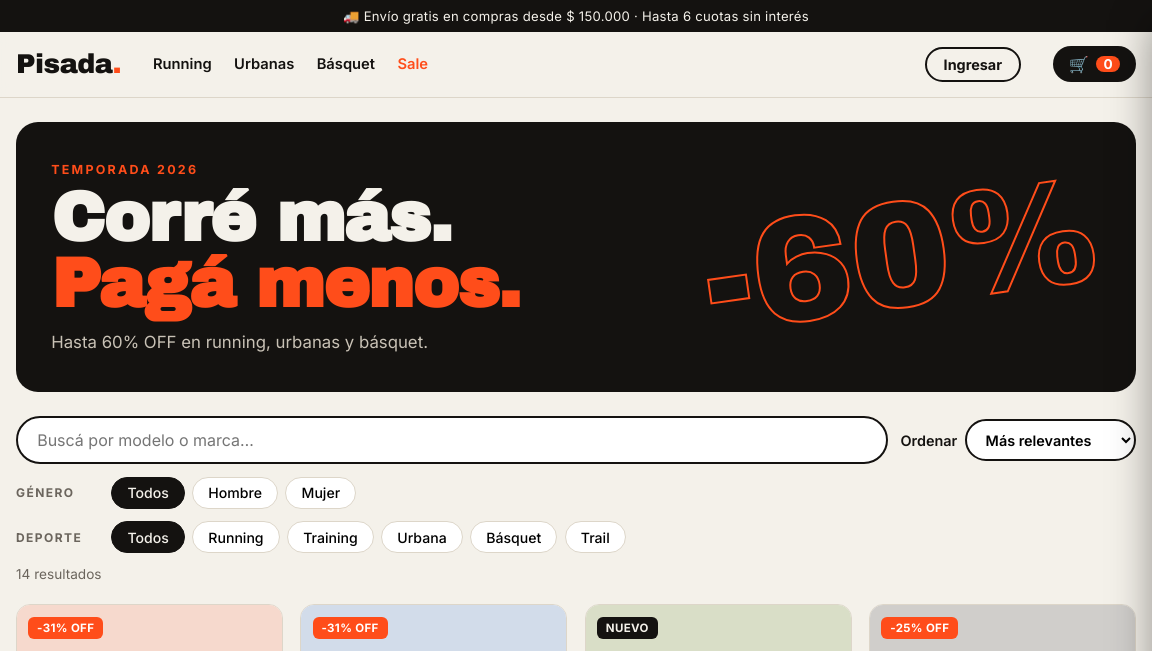
Test: Login y panel admin (R8 · R9) › CA-9.5 login cliente → saludo, pero SIN panel (la pulsera común no pasa)
Click the link "Ingresar" at (973, 64), box [925,47,1021,82]
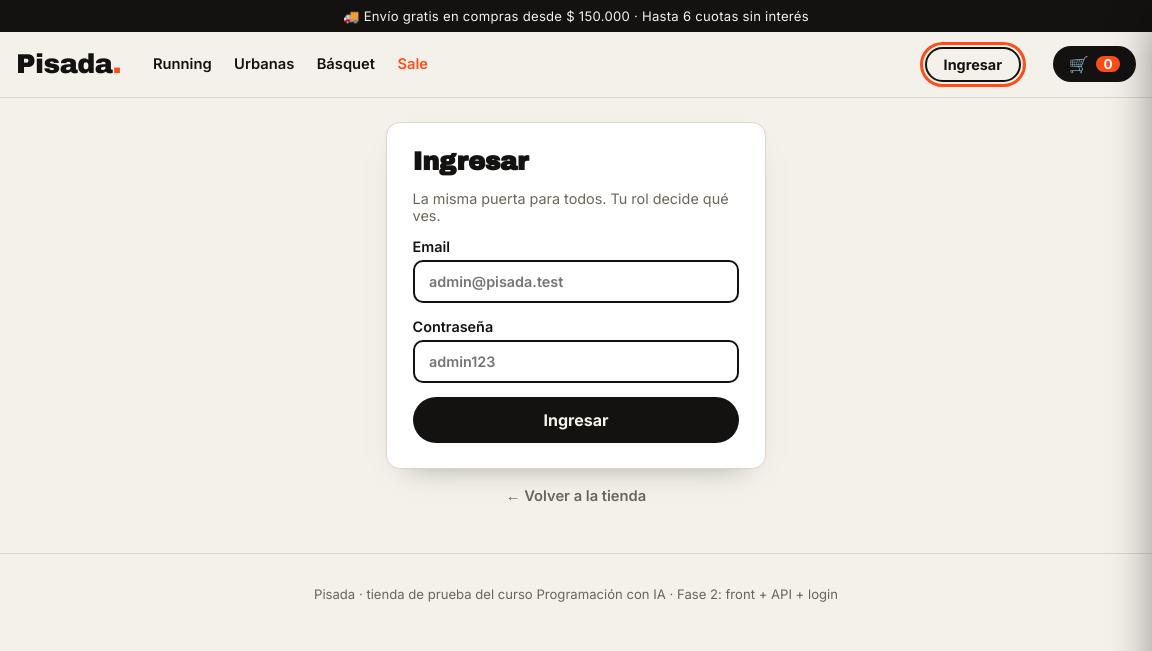
Type "cliente@pisada.test" into the field labelled "Email" at (576, 282), box [413,260,739,303]
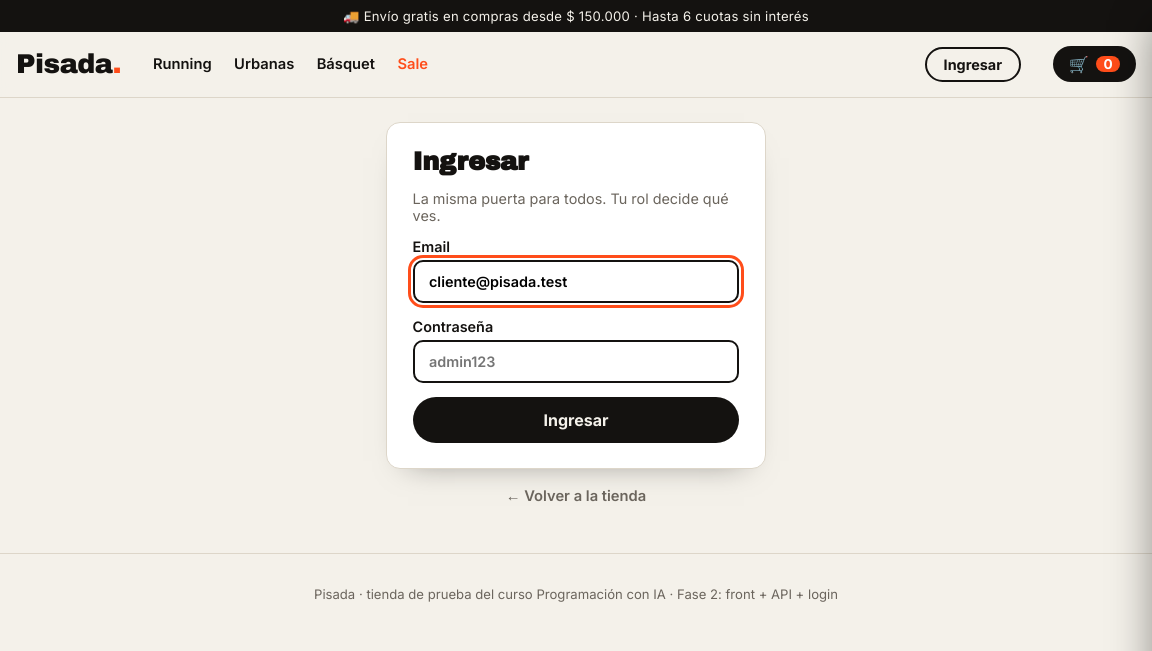
Type "cliente123" into the password field labelled "Contraseña" at (576, 361), box [413,340,739,383]
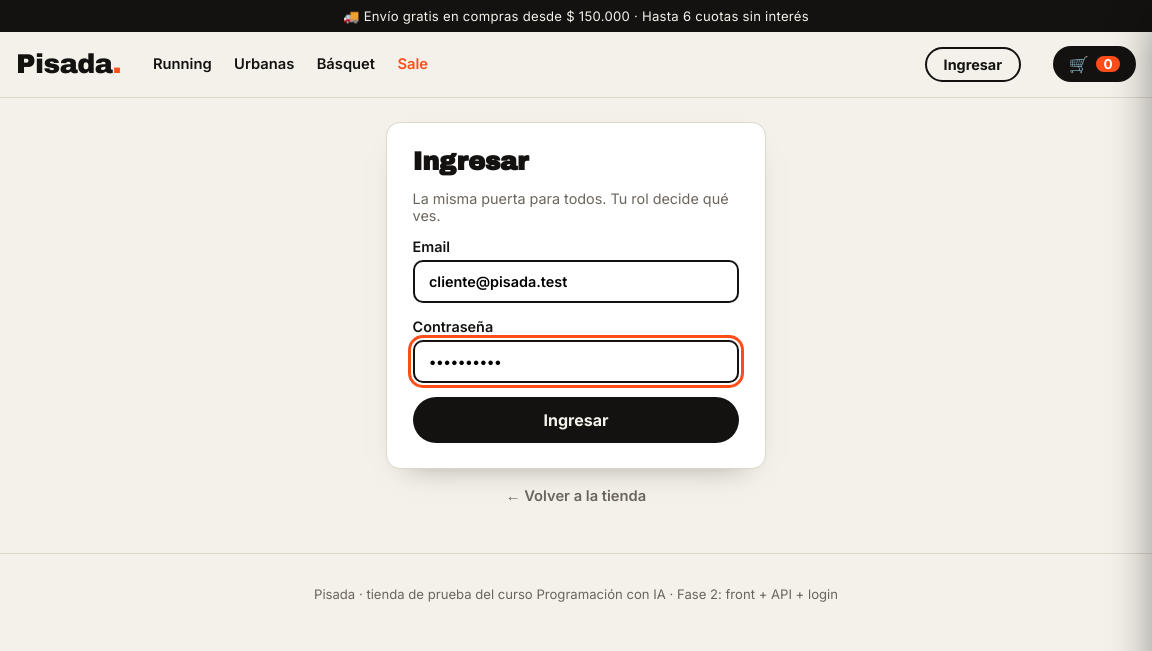
Click the button "Ingresar" at (576, 420), box [413,397,739,443]
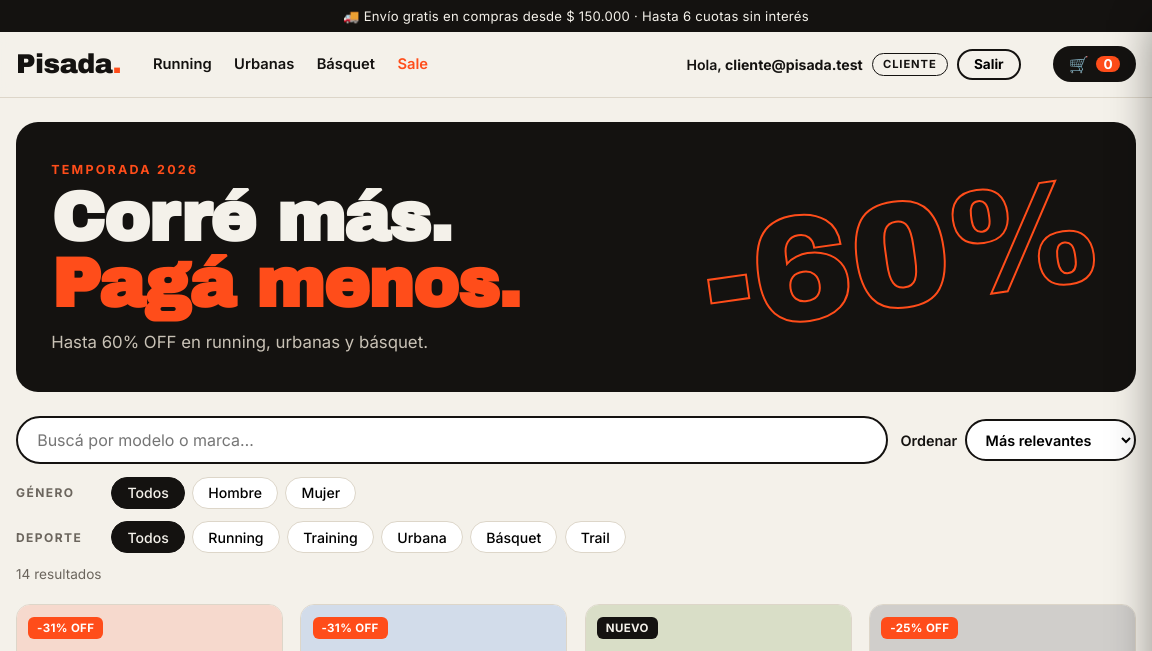
Check: the text "cliente@pisada.test" is shown, box [725,56,863,73]
Check: the text "cliente" is shown, box [872,53,948,76]
